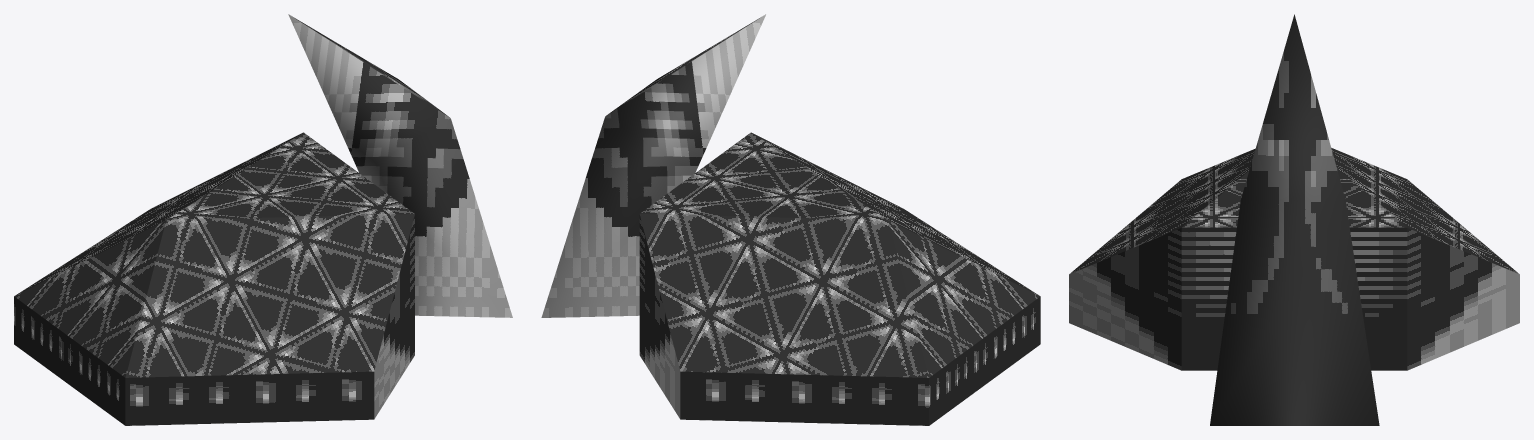
The model's file is ConstructionEnhancerX_Anim.glb.
The picture shows the model from 3 angles, left to right: view 1: azimuth 30°, elevation 25°; view 2: azimuth 150°, elevation 25°; view 3: azimuth 270°, elevation 25°; orthographic projection.
Visible parts, largest first — view 1: ConstructionEnhancer_Anim_part00, ConstructionEnhancer_Anim_part02, ConstructionEnhancer_Anim_part03, ConstructionEnhancer_Anim_part01; view 2: ConstructionEnhancer_Anim_part00, ConstructionEnhancer_Anim_part02, ConstructionEnhancer_Anim_part01; view 3: ConstructionEnhancer_Anim_part00, ConstructionEnhancer_Anim_part01, ConstructionEnhancer_Anim_part03.
Part boxes in pixels (bbox=[...]): ConstructionEnhancer_Anim_part00: bbox=[14, 132, 414, 425]; ConstructionEnhancer_Anim_part02: bbox=[310, 28, 512, 317]; ConstructionEnhancer_Anim_part03: bbox=[293, 19, 469, 200]; ConstructionEnhancer_Anim_part01: bbox=[288, 14, 488, 316]; ConstructionEnhancer_Anim_part00: bbox=[639, 132, 1040, 425]; ConstructionEnhancer_Anim_part02: bbox=[541, 18, 759, 317]; ConstructionEnhancer_Anim_part01: bbox=[588, 14, 765, 315]; ConstructionEnhancer_Anim_part00: bbox=[1069, 148, 1519, 370]; ConstructionEnhancer_Anim_part01: bbox=[1210, 14, 1379, 425]; ConstructionEnhancer_Anim_part03: bbox=[1218, 221, 1379, 425].
Size of the model in its own units: 48.6 by 36.78 by 46.74.
Materials: 5 (5 with a texture image).
